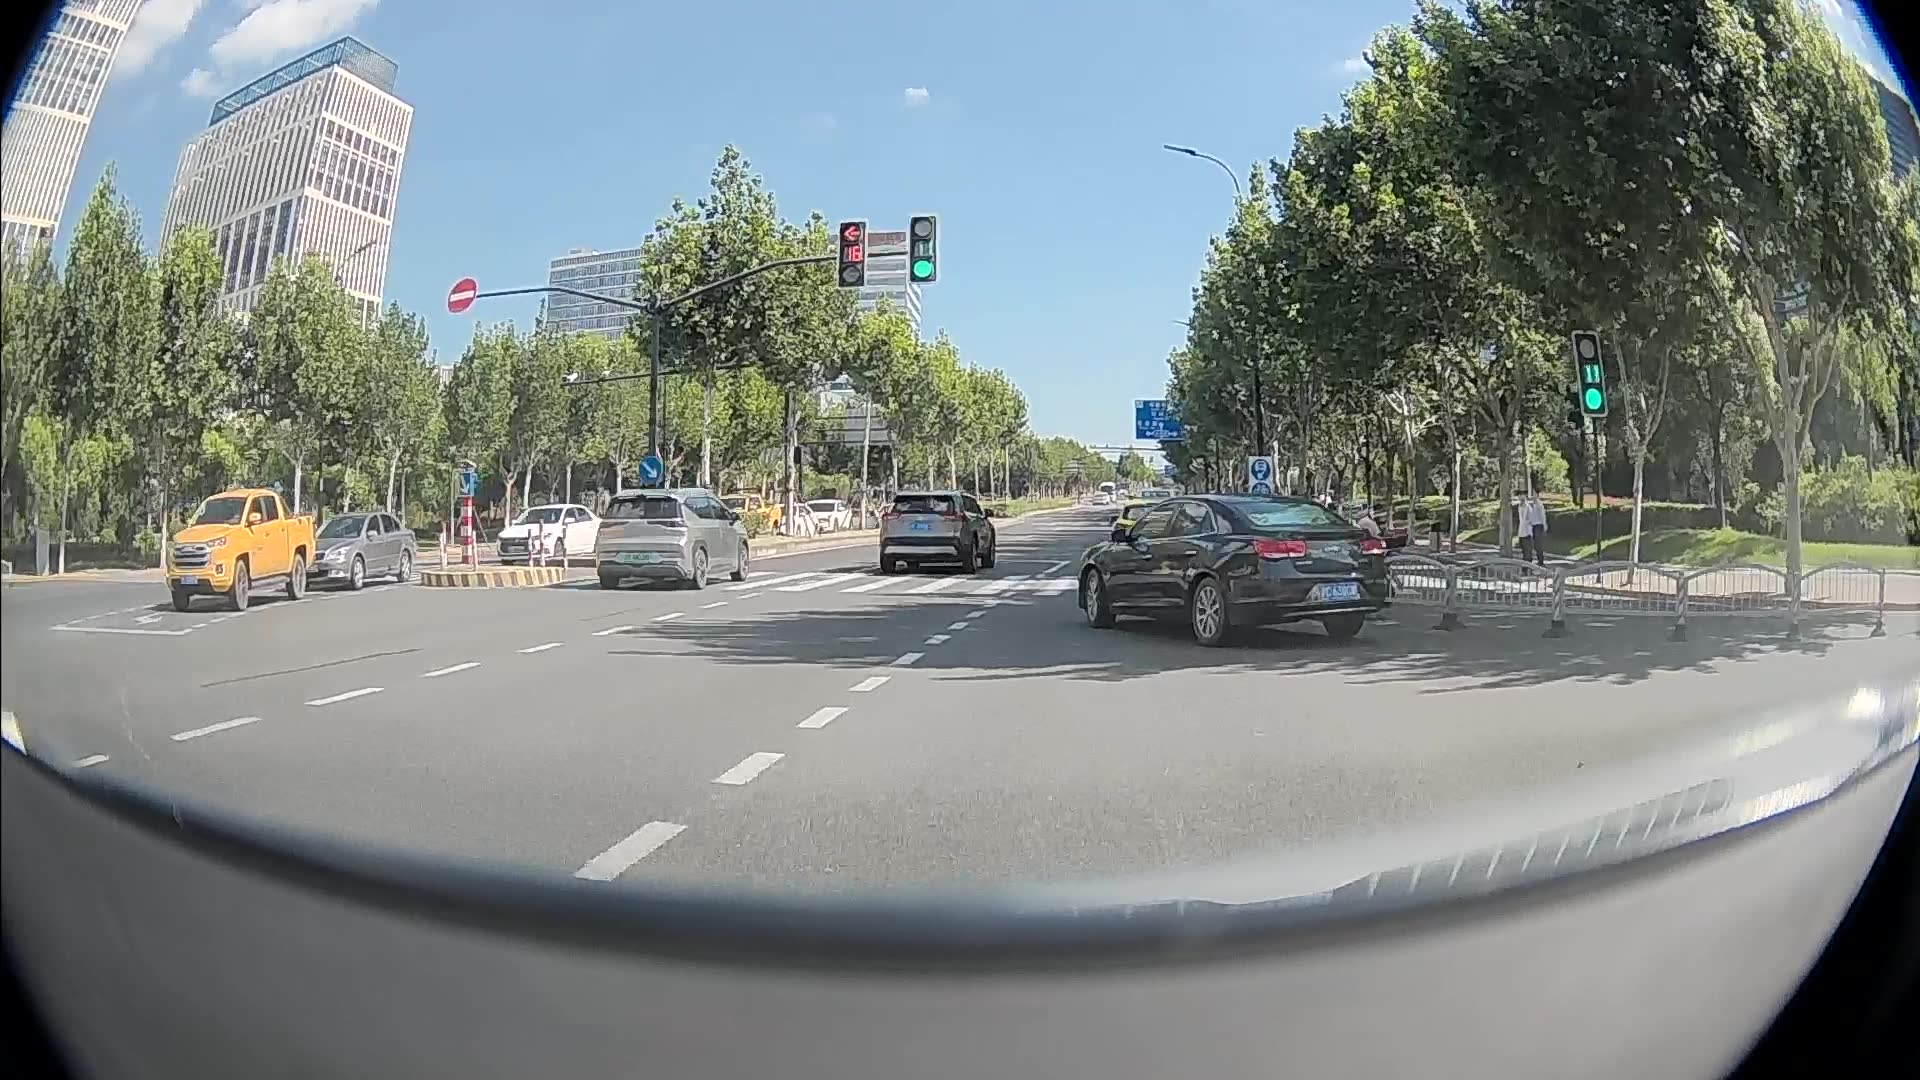adult: (1327, 502, 1381, 572), (1517, 493, 1533, 577), (1531, 487, 1547, 567)
bicyclist: (1311, 527, 1408, 610)
bollard: (471, 530, 477, 570), (539, 518, 544, 566), (528, 528, 533, 566), (439, 533, 444, 569), (442, 522, 446, 565), (563, 527, 566, 575)
car: (1077, 494, 1385, 646), (295, 511, 415, 590), (496, 504, 619, 567), (1111, 498, 1194, 561), (762, 503, 818, 540), (800, 499, 853, 533)
dontcareregion: (1091, 480, 1188, 504), (1776, 276, 1832, 313), (858, 502, 892, 532), (1310, 491, 1345, 502), (1164, 464, 1180, 477)
guardrail: (1365, 554, 1886, 642), (735, 509, 880, 546), (980, 498, 1072, 517)
head: (1351, 502, 1363, 518), (1532, 487, 1538, 498), (1518, 493, 1525, 501)
info_ts: (1134, 399, 1198, 439)
lorry: (166, 488, 315, 611), (709, 494, 780, 541)
motorcycle: (1311, 502, 1408, 610)
other_ts: (1251, 458, 1270, 480)
plate: (1318, 584, 1358, 598), (621, 553, 650, 563), (180, 575, 197, 584), (508, 545, 525, 553), (911, 521, 928, 529), (310, 564, 318, 571)
suv: (595, 488, 749, 589), (879, 489, 995, 573)
trafficsign: (447, 278, 476, 313), (639, 456, 663, 483), (453, 471, 474, 496), (1251, 482, 1271, 501)
vehicle_back: (1266, 494, 1385, 646), (879, 489, 956, 573), (1111, 498, 1194, 561)
vehicle_front: (595, 488, 679, 589), (166, 488, 218, 611), (295, 511, 344, 590), (496, 504, 546, 567), (709, 494, 733, 541), (800, 499, 829, 533), (762, 503, 787, 540)
wheel: (1187, 570, 1226, 646), (1080, 563, 1107, 628), (233, 552, 249, 611), (294, 544, 306, 599), (694, 545, 707, 589), (351, 552, 365, 590), (399, 547, 411, 581), (739, 539, 748, 580)
